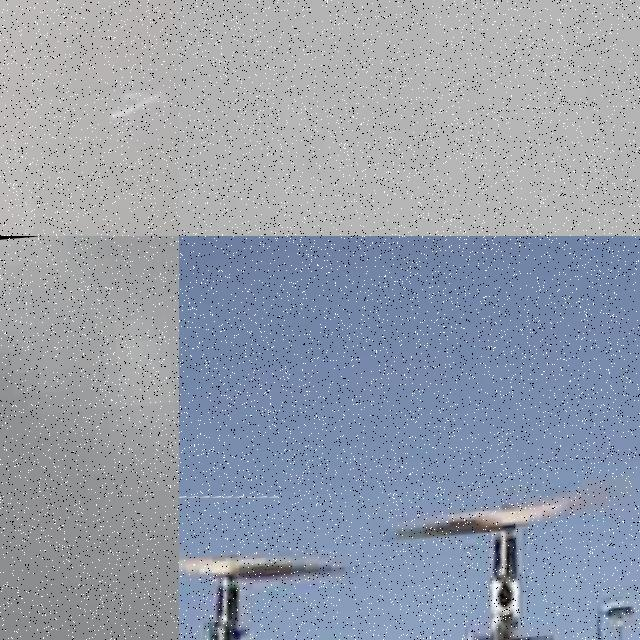drone: (179, 454, 640, 640), (0, 0, 179, 236)
